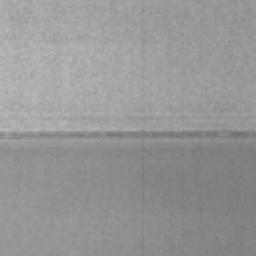Welding line: (0, 128, 256, 141)
